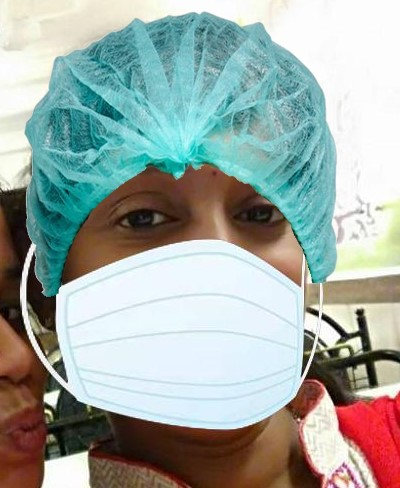with_mask_and_cap: (27, 22, 312, 433)
